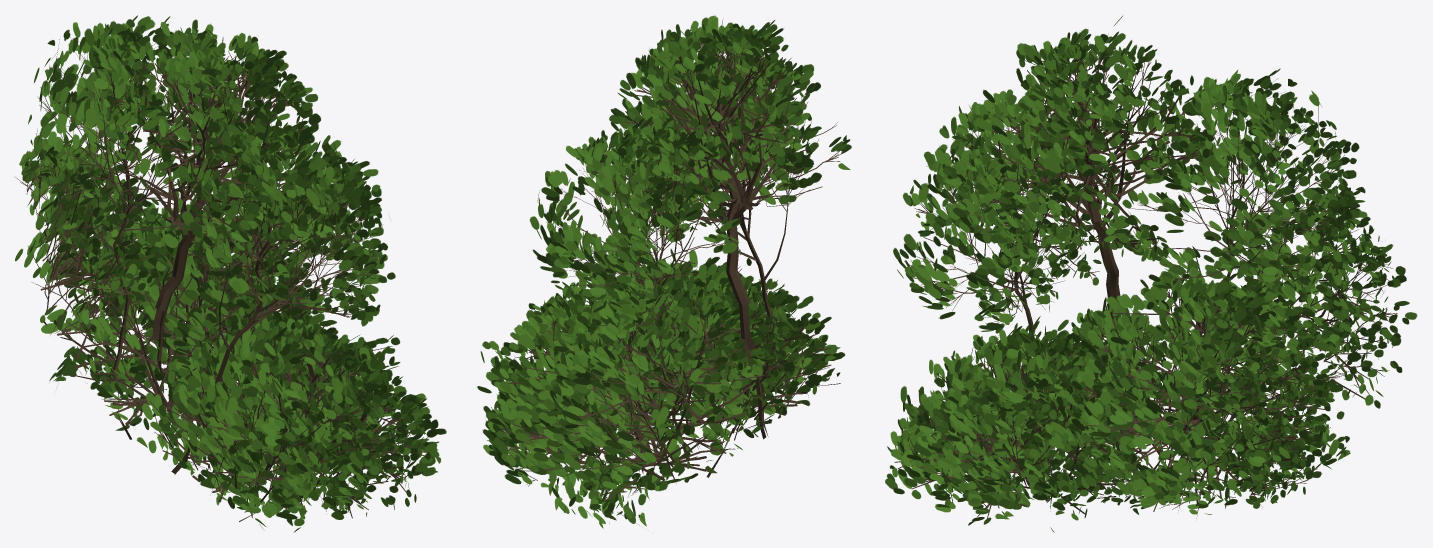
The picture shows the model from 3 angles, left to right: view 1: azimuth 30°, elevation 25°; view 2: azimuth 150°, elevation 25°; view 3: azimuth 270°, elevation 25°; orthographic projection. The views are drawn at different scales.
Visible parts, largest first — view 1: oak 01.001_trunk_Mat.001_0.454; view 2: oak 01.001_trunk_Mat.001_0.454; view 3: oak 01.001_trunk_Mat.001_0.454.
Boxes of the visible parts, x1=… form: oak 01.001_trunk_Mat.001_0.454: x1=14, y1=15, x2=446, y2=532; oak 01.001_trunk_Mat.001_0.454: x1=477, y1=15, x2=851, y2=528; oak 01.001_trunk_Mat.001_0.454: x1=885, y1=16, x2=1417, y2=532.
Bounding box in the file's own units: 2.81 × 4.8 × 5.3.
Materials: 2 (1 with a texture image).
